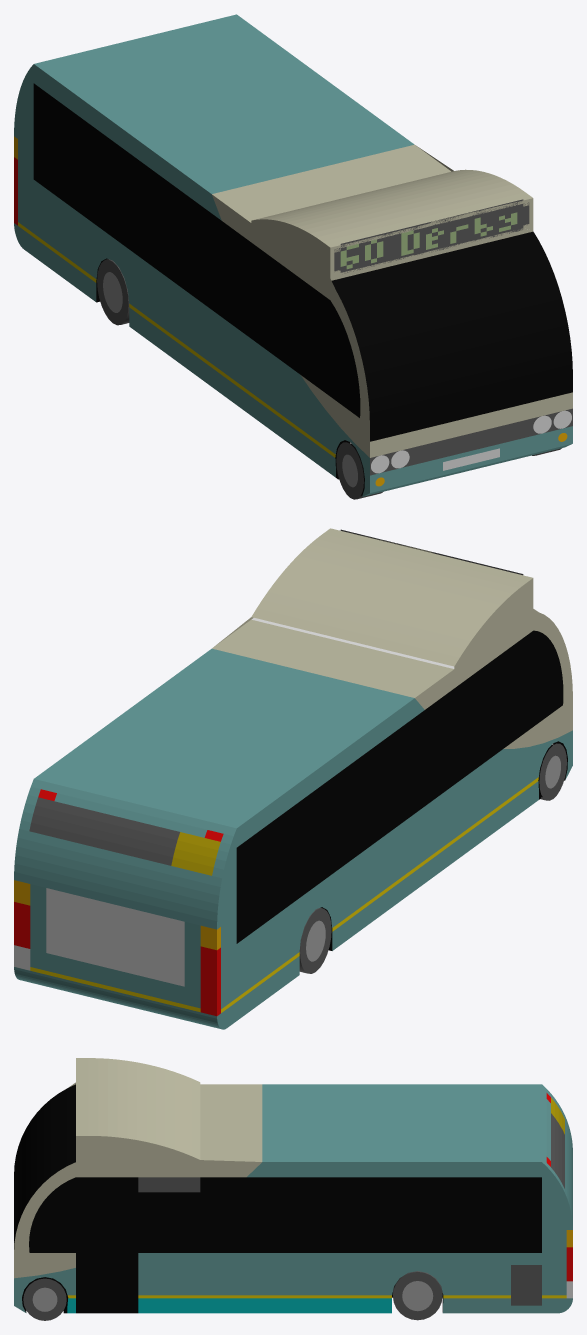
The model's file is optare-solo.dae.
3 views of the same model, one above another, from view 1: azimuth 30°, elevation 25°; view 2: azimuth 150°, elevation 25°; view 3: azimuth 270°, elevation 25° (orthographic). The views are drawn at different scales.
Parts seen in each view (by area): view 1: SketchUp_003, SketchUp_007, SketchUp_001, SketchUp_002, SketchUp_023, SketchUp_030, SketchUp_015, SketchUp_011, SketchUp_043, SketchUp_031, SketchUp_038, SketchUp_046; view 2: SketchUp_003, SketchUp_002, SketchUp_001, SketchUp_077, SketchUp_074, SketchUp_011, SketchUp_030, SketchUp_072, SketchUp_033, SketchUp_043, SketchUp_031, SketchUp_038 (+3 smaller); view 3: SketchUp_003, SketchUp_004, SketchUp_002, SketchUp_007, SketchUp_008, SketchUp_011, SketchUp_009, SketchUp_044, SketchUp_039, SketchUp_025, SketchUp_013, SketchUp_074 (+2 smaller).
Part boxes in pixels (x1,y1,x2,y2): SketchUp_003: (14,14,572,496); SketchUp_007: (332,231,572,441); SketchUp_001: (33,83,360,417); SketchUp_002: (212,144,572,457); SketchUp_023: (334,199,529,273); SketchUp_030: (129,307,335,477); SketchUp_015: (401,416,540,467); SketchUp_011: (14,223,96,301); SketchUp_043: (97,259,129,325); SketchUp_031: (129,304,335,457); SketchUp_038: (336,442,383,499); SketchUp_046: (103,272,122,312); SketchUp_003: (14,648,572,1009); SketchUp_002: (212,528,572,748); SketchUp_001: (236,630,563,943); SketchUp_077: (46,888,184,986); SketchUp_074: (29,797,179,865); SketchUp_011: (14,956,299,1029); SketchUp_030: (332,781,538,950); SketchUp_072: (171,832,220,875); SketchUp_033: (200,946,220,1016); SketchUp_043: (299,908,331,973); SketchUp_031: (332,777,538,931); SketchUp_038: (539,743,566,800); SketchUp_003: (14,1084,572,1312); SketchUp_004: (22,1177,541,1313); SketchUp_002: (14,1058,262,1278); SketchUp_007: (14,1084,75,1249); SketchUp_008: (138,1298,391,1313); SketchUp_011: (442,1298,572,1313); SketchUp_009: (511,1265,541,1305); SketchUp_044: (393,1271,442,1320); SketchUp_039: (23,1278,66,1320); SketchUp_025: (138,1295,391,1298); SketchUp_013: (138,1177,200,1192); SketchUp_074: (551,1113,564,1188).
Bounding box in the file's own units: 1.86 × 5.64 × 2.07.
